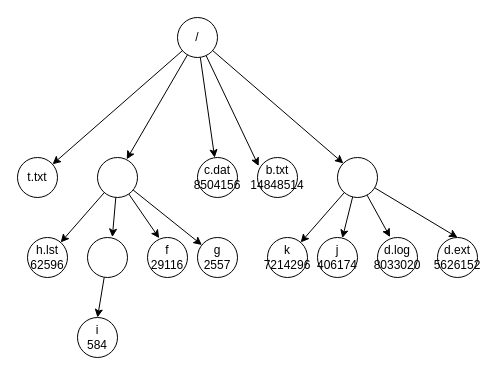
This 498x375 diagram has some shape labels left out. The shapes that lost their labels are listed below. From the top down, each one's centre as x and y in pixels, then its label:
At (117,177): "a/".
At (357,177): "d/".
At (107,257): "e/".
